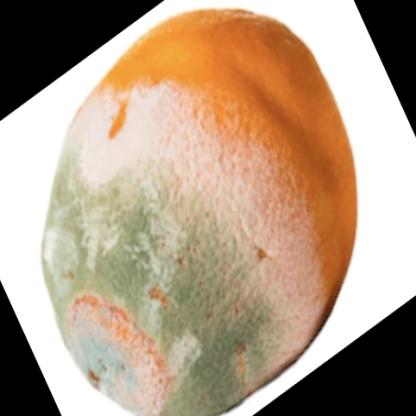rotten: (42, 6, 358, 416)
